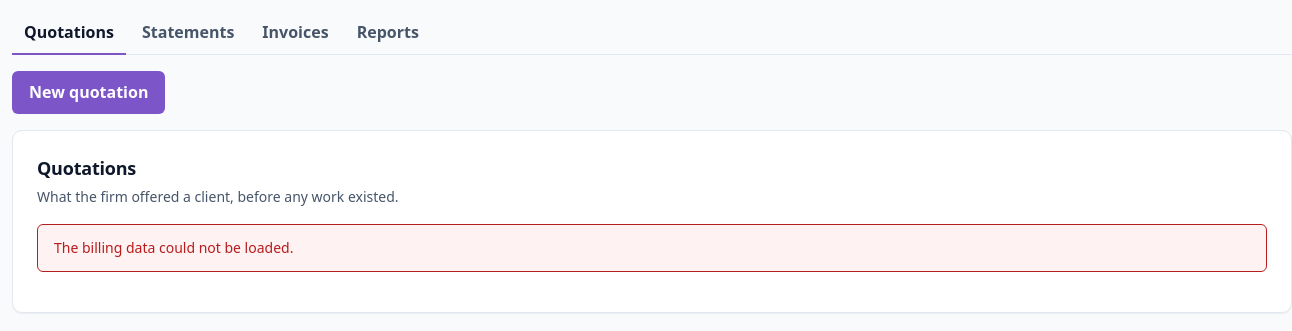
Scenario: the statement list › names the client and shows what will be billed
The image size is (1292, 331).
Click the button "Statements" at (188,33), box [130,12,246,55]
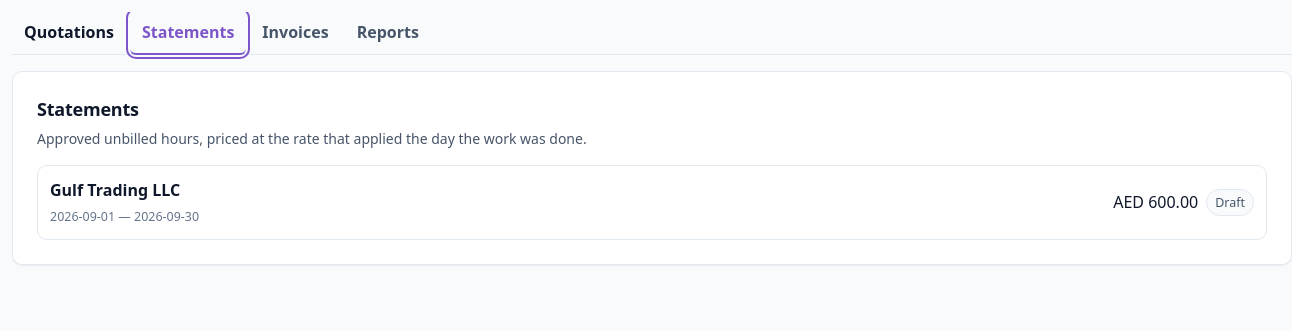
Check: the text "Gulf Trading LLC" is shown, box [50,178,199,203]
Check: the text "2026-09-01 — 2026-09-30" is shown, box [50,207,199,226]
